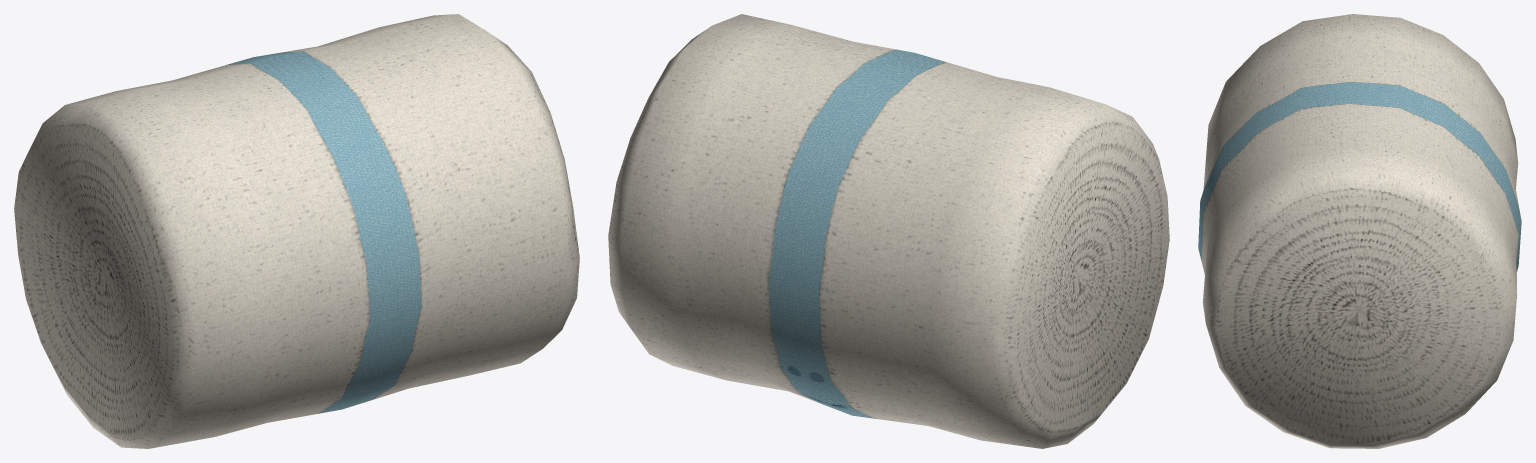
Rendered from bandage.glb.
3 views of the same model, side by side, from view 1: azimuth 30°, elevation 25°; view 2: azimuth 150°, elevation 25°; view 3: azimuth 270°, elevation 25° (orthographic). The views are drawn at different scales.
Parts seen in each view (by area): view 1: SM_Bandage_01; view 2: SM_Bandage_01; view 3: SM_Bandage_01.
Boxes of the visible parts, bbox=[...] form: SM_Bandage_01: bbox=[14, 14, 579, 448]; SM_Bandage_01: bbox=[608, 14, 1169, 448]; SM_Bandage_01: bbox=[1198, 14, 1521, 448].
Bounding box in the file's own units: 0.0793 × 0.0612 × 0.0624.
1 material, 1 textured.
